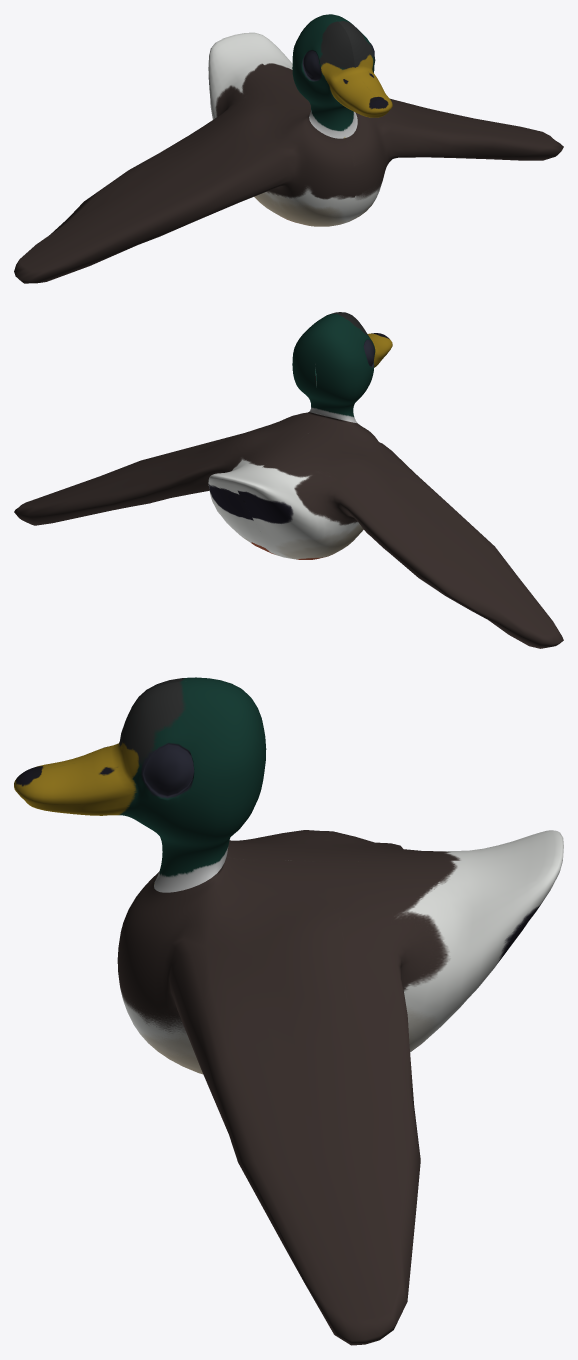
File: duck_down_y.fbx
3 renders of one model, top to bottom at view 1: azimuth 30°, elevation 25°; view 2: azimuth 150°, elevation 25°; view 3: azimuth 270°, elevation 25°, orthographic. The views are drawn at different scales.
Visible parts, largest first — view 1: duck_down1; view 2: duck_down1; view 3: duck_down1.
Part boxes in pixels (x1=…): duck_down1: x1=14, y1=14, x2=563, y2=283; duck_down1: x1=14, y1=312, x2=563, y2=648; duck_down1: x1=14, y1=677, x2=563, y2=1345.
Size of the model in its own units: 4.41 by 1.82 by 2.1.
